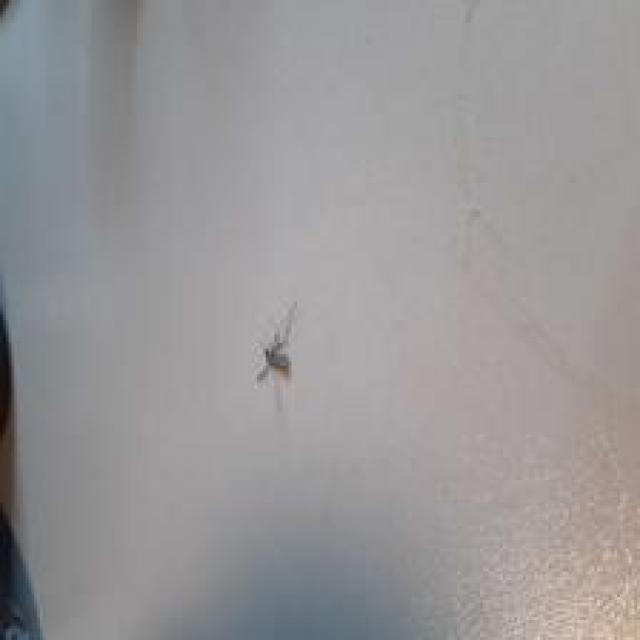Culex: (253, 299, 298, 410)
